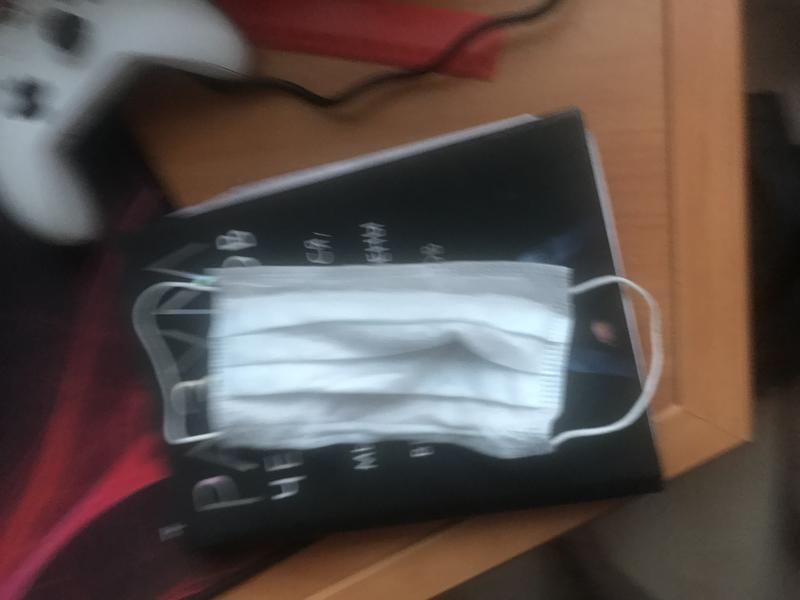medical_mask: (132, 261, 661, 446)
